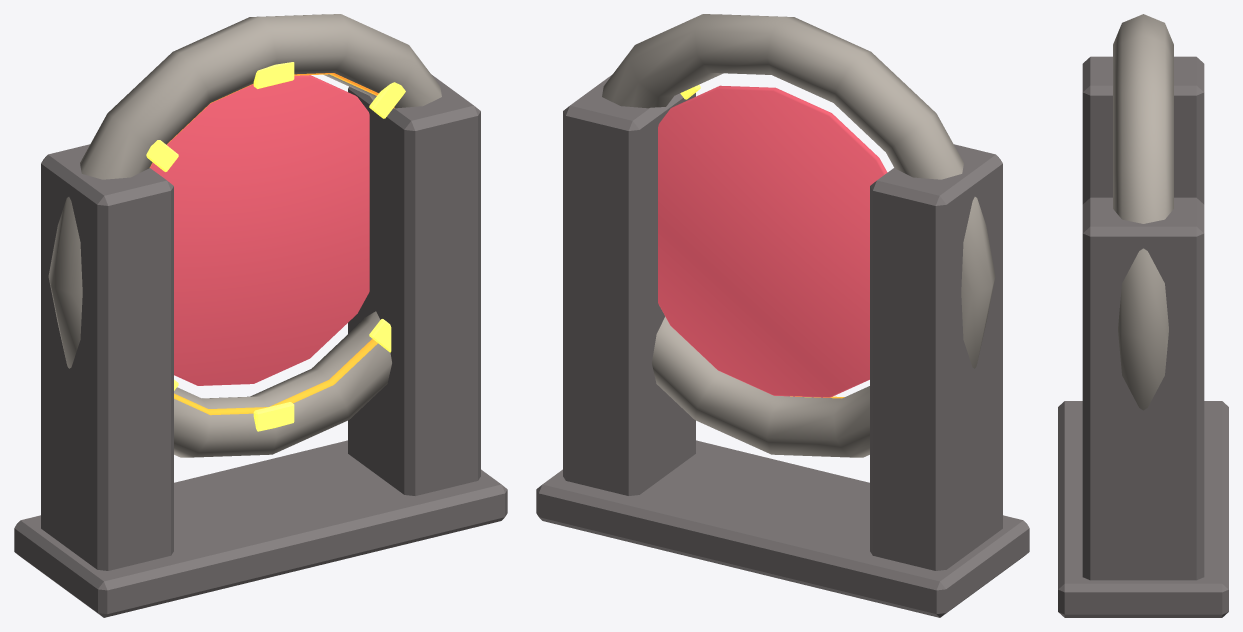
Rendered from portal_ring.glb.
3 renders of one model, left to right at view 1: azimuth 30°, elevation 25°; view 2: azimuth 150°, elevation 25°; view 3: azimuth 270°, elevation 25°, orthographic. The views are drawn at different scales.
Parts seen in each view (by area): view 1: PORTAL__vortex, PORTAL__pier, PORTAL__pier.001, PORTAL__ring, PORTAL__base, PORTAL__runes, PORTAL__sigil.006, PORTAL__sigil.002, PORTAL__sigil.001; view 2: PORTAL__vortex, PORTAL__pier, PORTAL__ring, PORTAL__pier.001, PORTAL__base; view 3: PORTAL__pier.001, PORTAL__ring, PORTAL__base, PORTAL__pier.
Boxes of the visible parts, x1,y1,x2,y2 form: PORTAL__vortex: (150,75,369,385); PORTAL__pier: (41,144,173,570); PORTAL__pier.001: (348,74,480,495); PORTAL__ring: (48,14,441,457); PORTAL__base: (14,440,507,617); PORTAL__runes: (149,73,394,415); PORTAL__sigil.006: (253,402,294,431); PORTAL__sigil.002: (253,62,294,88); PORTAL__sigil.001: (369,82,405,118); PORTAL__vortex: (658,85,887,397); PORTAL__pier: (870,144,1002,570); PORTAL__ring: (602,14,995,457); PORTAL__pier.001: (563,74,695,495); PORTAL__base: (536,440,1029,617); PORTAL__pier.001: (1082,197,1204,580); PORTAL__ring: (1113,14,1173,410); PORTAL__base: (1058,401,1228,617); PORTAL__pier: (1082,56,1204,204).
Size of the model in its own units: 2.4 by 2.86 by 0.9.
